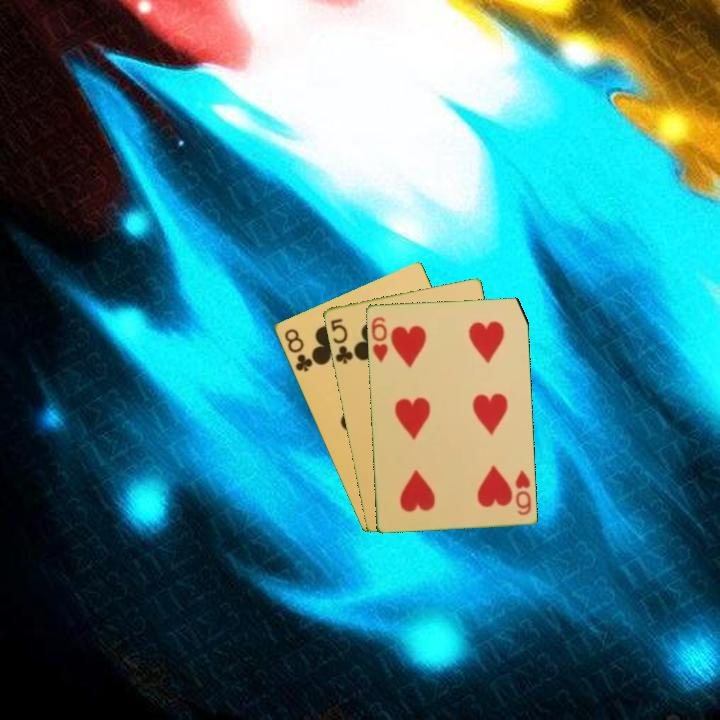5c: (327, 315, 358, 367)
6h: (367, 313, 391, 365), (511, 466, 534, 518)
8c: (280, 325, 315, 375)
